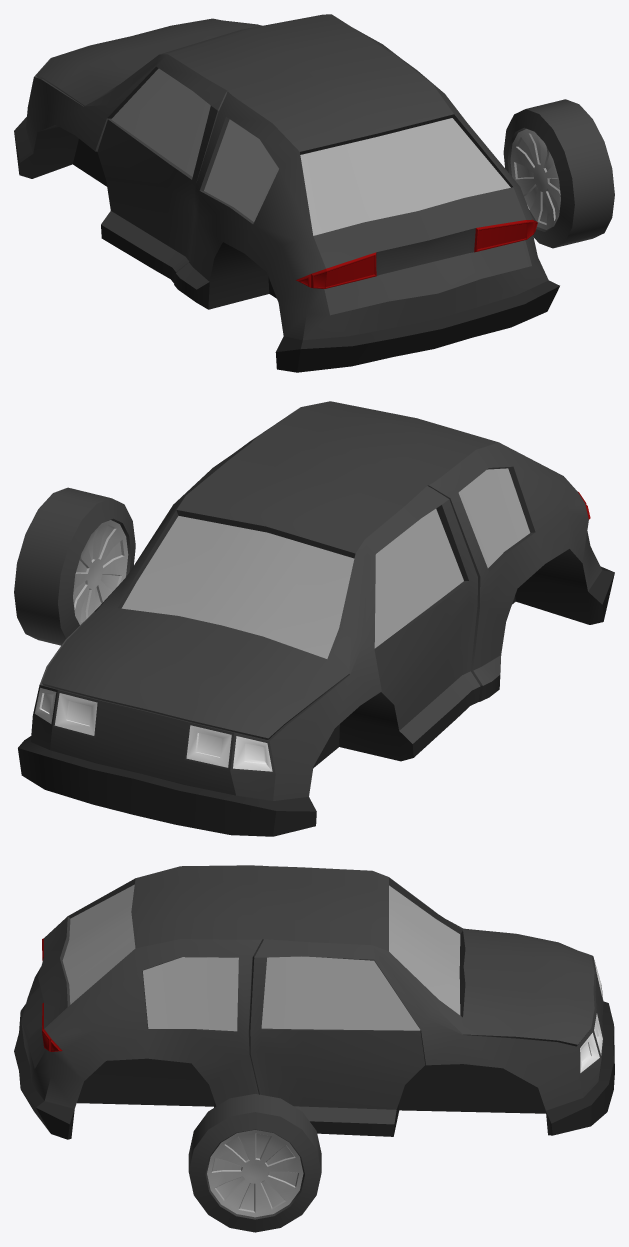
The model's file is off road vehicle.fbx.
The picture shows the model from 3 angles, top to bottom: view 1: azimuth 30°, elevation 25°; view 2: azimuth 150°, elevation 25°; view 3: azimuth 270°, elevation 25°; orthographic projection. The views are drawn at different scales.
Parts seen in each view (by area): view 1: Cube, Cube.001; view 2: Cube, Cube.001; view 3: Cube, Cube.001.
Part boxes in pixels (<box>): Cube: <box>14,14,559,372</box>; Cube.001: <box>503,99,614,248</box>; Cube: <box>18,401,614,836</box>; Cube.001: <box>14,487,135,645</box>; Cube: <box>14,865,614,1139</box>; Cube.001: <box>188,1094,321,1232</box>.
Size of the model in its own units: 731 by 391 by 1000.
